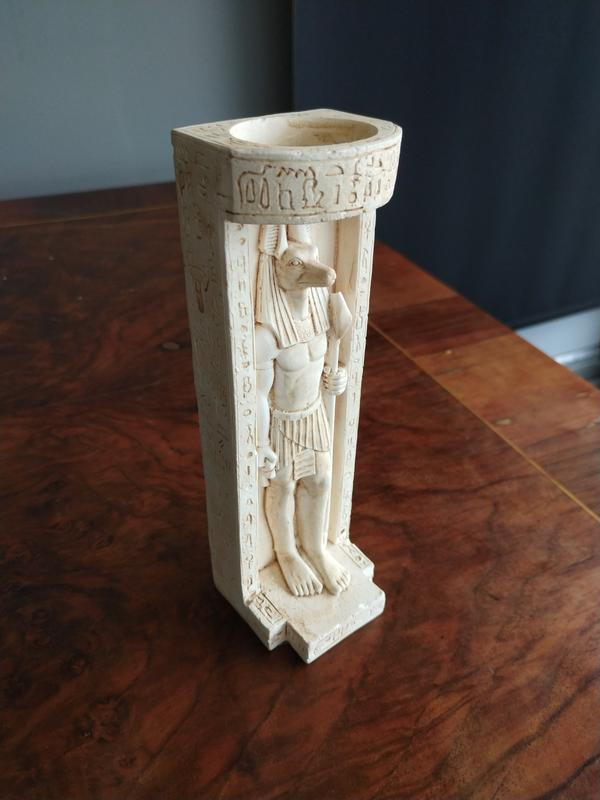heykel: (157, 100, 411, 673)
